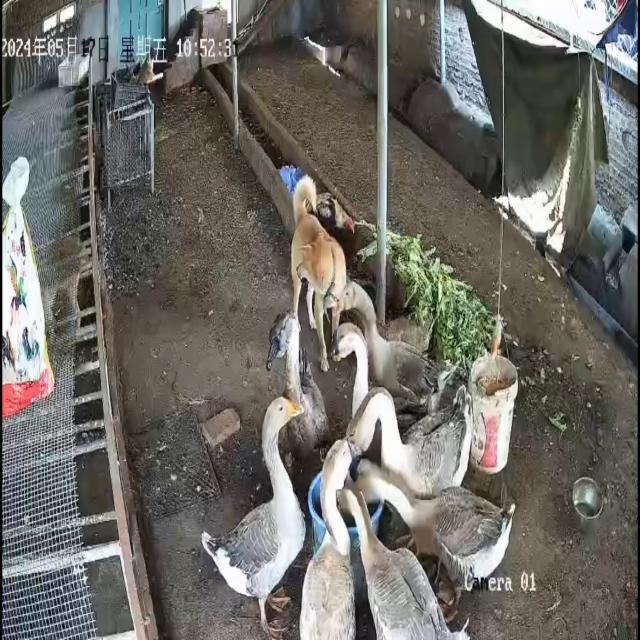dog: (291, 175, 349, 374)
